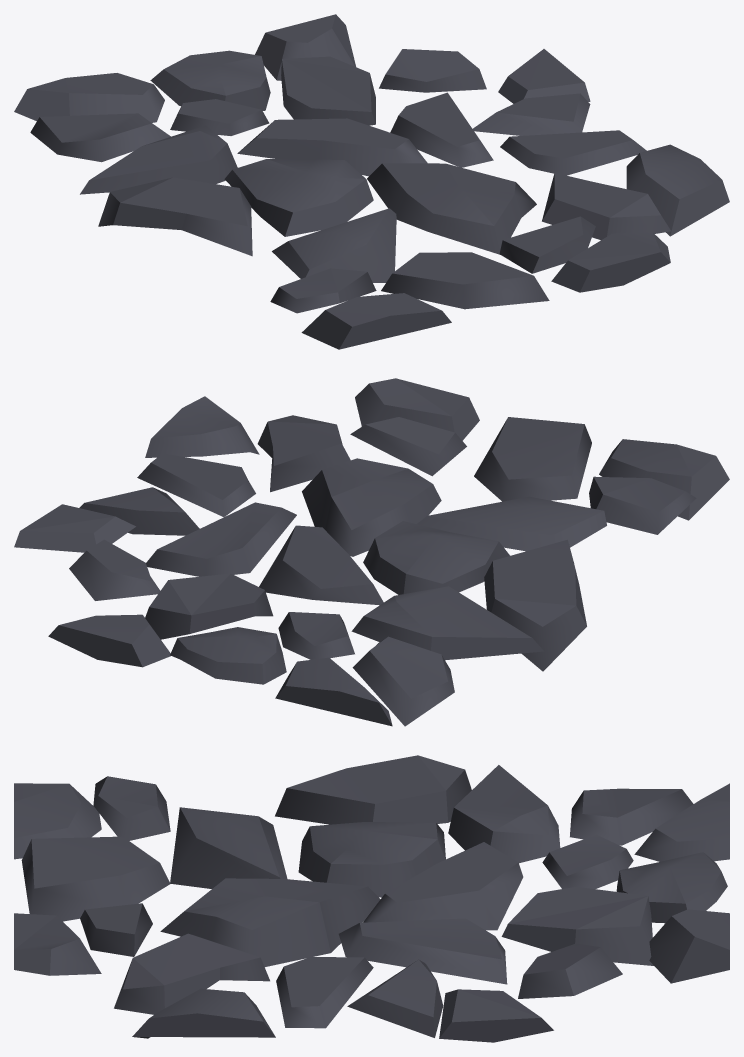
File: Stone_Path_Crossroads_R_1.fbx
The picture shows the model from 3 angles, top to bottom: view 1: azimuth 30°, elevation 25°; view 2: azimuth 150°, elevation 25°; view 3: azimuth 270°, elevation 25°; orthographic projection. The views are drawn at different scales.
Visible parts, largest first — view 1: Stone_Path_Crossroads_R_1; view 2: Stone_Path_Crossroads_R_1; view 3: Stone_Path_Crossroads_R_1.
Part boxes in pixels (box(x1,y1,x2,y2)): Stone_Path_Crossroads_R_1: box(14, 14, 729, 349); Stone_Path_Crossroads_R_1: box(14, 378, 729, 726); Stone_Path_Crossroads_R_1: box(14, 755, 729, 1042).
Size of the model in its own units: 127 by 14.55 by 147.
